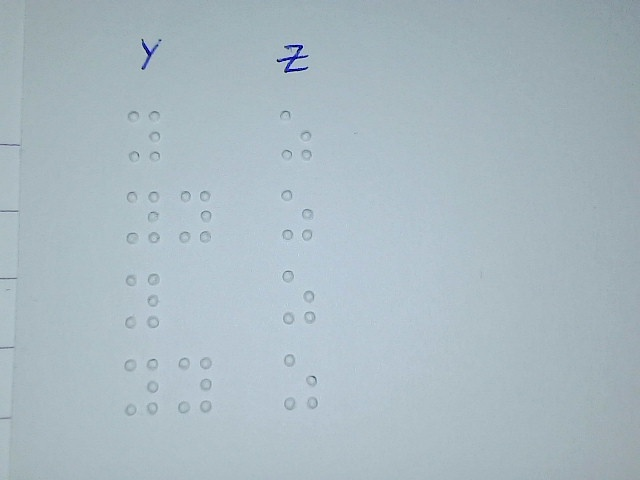Y: (176, 354, 213, 415), (123, 355, 160, 416), (124, 271, 159, 329), (126, 108, 161, 164), (178, 188, 213, 244)
Z: (282, 352, 320, 410), (280, 268, 317, 324), (278, 108, 313, 162), (280, 187, 315, 241)
